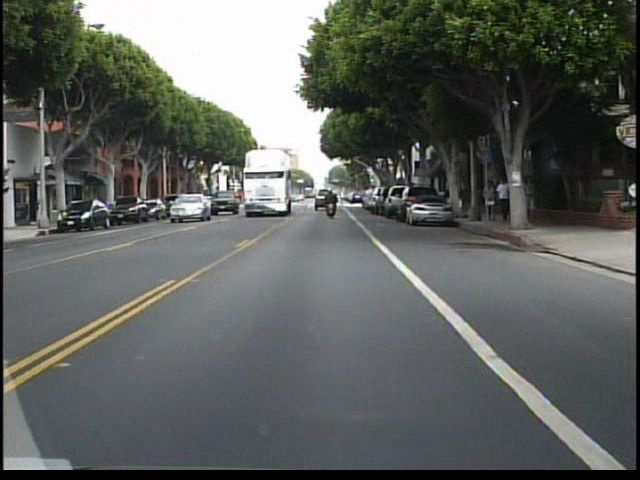person: (495, 175, 512, 225), (481, 175, 498, 224), (523, 173, 538, 223), (323, 184, 341, 221)
